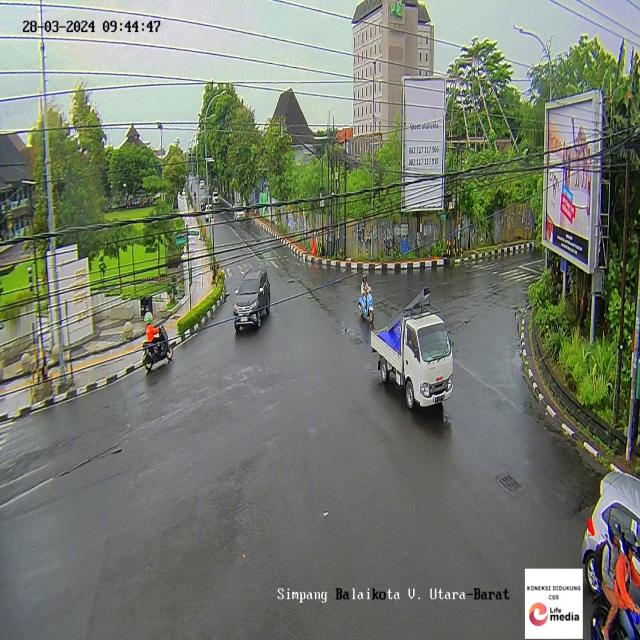car: (579, 472, 640, 615), (234, 271, 274, 333), (233, 203, 244, 219)
motorcycle: (587, 520, 639, 640), (142, 312, 174, 375), (358, 269, 374, 331)
truck: (370, 300, 453, 411)
